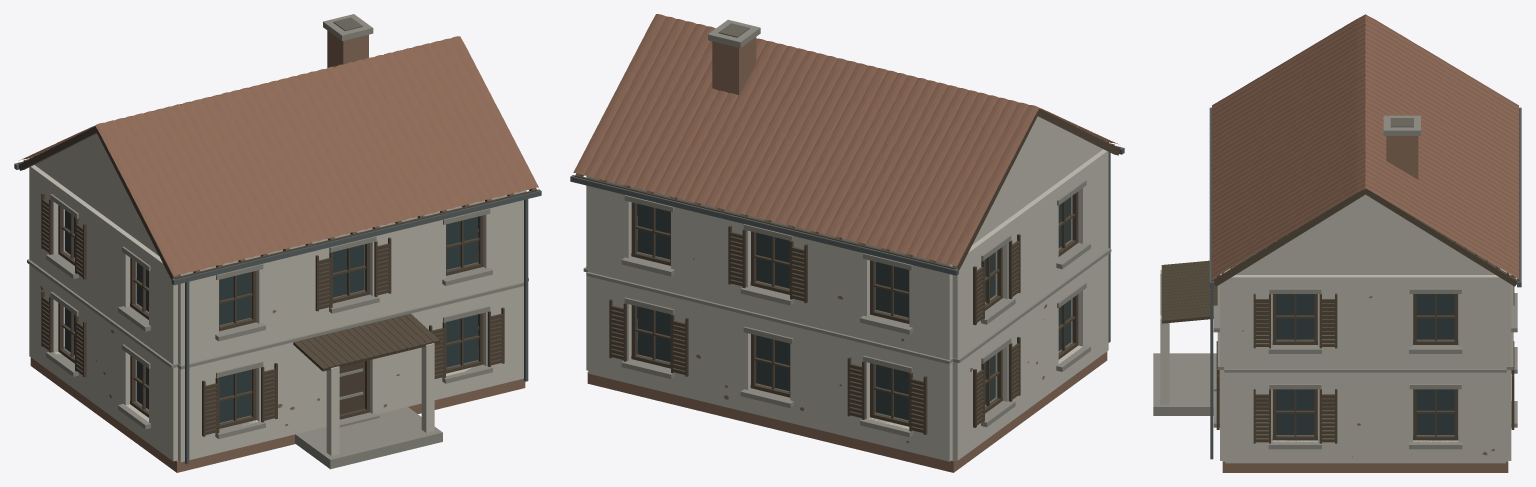
Rendered from house_intact.glb.
3 views of the same model, side by side, from view 1: azimuth 30°, elevation 25°; view 2: azimuth 150°, elevation 25°; view 3: azimuth 270°, elevation 25° (orthographic). The views are drawn at different scales.
Visible parts, largest first — view 1: plaster, roof, wood, trim, glass, brick, metal, interior; view 2: plaster, roof, wood, trim, glass, brick, metal, interior; view 3: roof, plaster, wood, trim, glass, brick, metal, interior.
Boxes of the visible parts, <box> form: plaster: <box>29,133,526,462</box>; roof: <box>19,36,538,276</box>; wood: <box>18,126,537,436</box>; trim: <box>27,14,528,469</box>; glass: <box>65,210,478,422</box>; brick: <box>30,30,525,472</box>; metal: <box>14,163,541,464</box>; interior: <box>63,17,478,423</box>; plaster: <box>586,116,1108,461</box>; roof: <box>573,14,1118,266</box>; wood: <box>574,108,1120,434</box>; trim: <box>583,19,1111,437</box>; glass: <box>637,197,1070,420</box>; brick: <box>587,37,1107,472</box>; metal: <box>570,145,1124,342</box>; interior: <box>637,23,1072,421</box>; roof: <box>1212,14,1518,279</box>; plaster: <box>1160,188,1511,463</box>; wood: <box>1161,108,1519,443</box>; trim: <box>1153,115,1517,449</box>; glass: <box>1231,267,1499,434</box>; brick: <box>1222,136,1508,472</box>; metal: <box>1209,107,1521,459</box>; interior: <box>1235,118,1495,435</box>.
Size of the model in its own units: 12.4 by 10.24 by 11.02.
